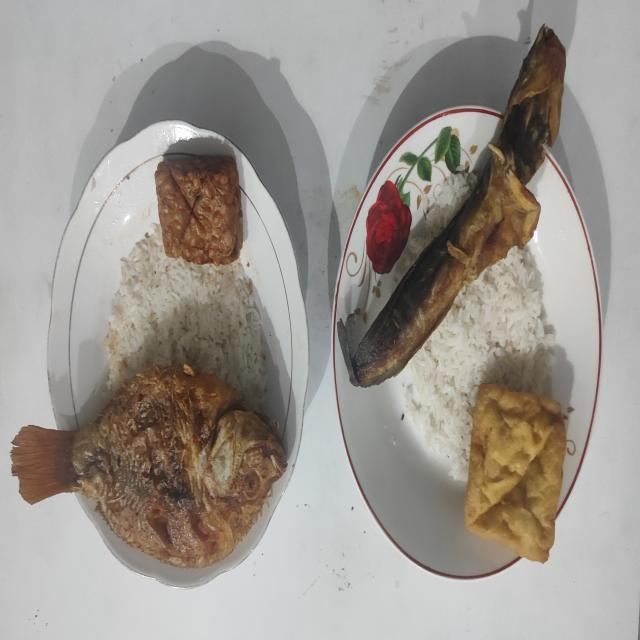ikan_mujair: (12, 363, 286, 568)
nasi_putih: (405, 248, 555, 480), (105, 224, 266, 400), (394, 174, 476, 281)
tahu_goreng: (464, 384, 566, 561)
tempe_goreng: (155, 156, 242, 265)
